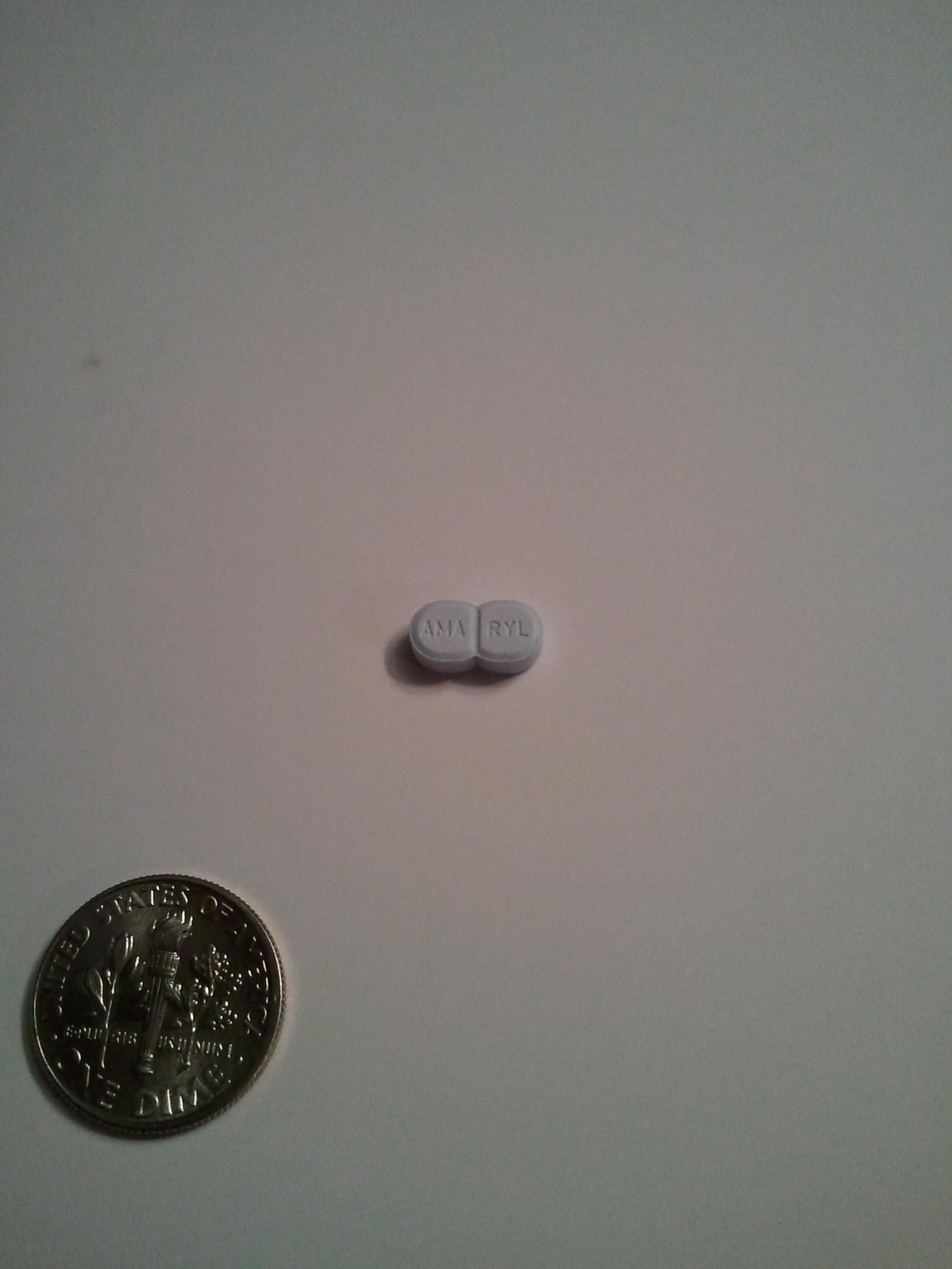Pill: (389, 590, 561, 696)
